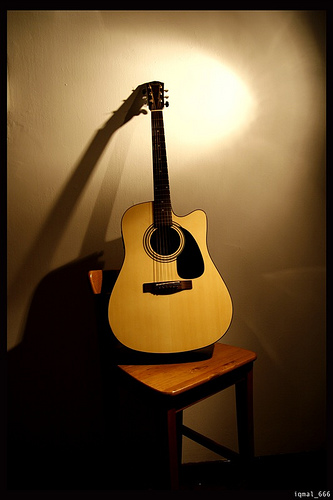guitar: (106, 82, 234, 355)
